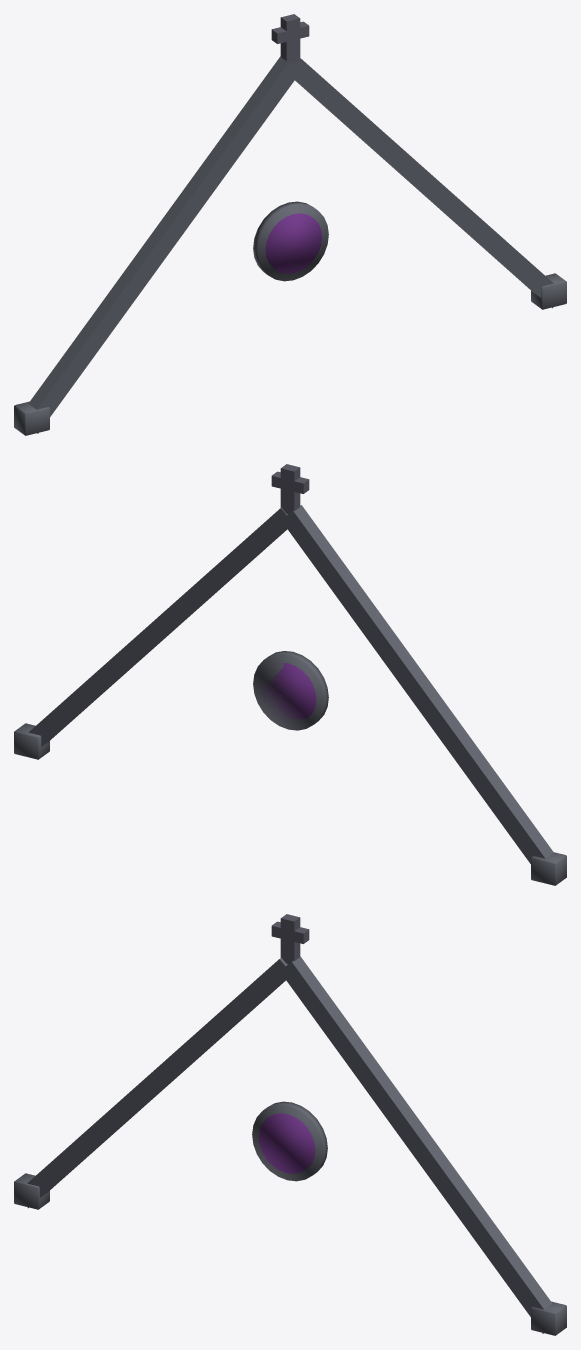
The model's file is kit_church_gable_w6.glb.
3 views of the same model, one above another, from view 1: azimuth 30°, elevation 25°; view 2: azimuth 150°, elevation 25°; view 3: azimuth 330°, elevation 25° (orthographic).
Parts seen in each view (by area): view 1: kit_church_gable_w6; view 2: kit_church_gable_w6; view 3: kit_church_gable_w6.
Boxes of the visible parts, x1=… form: kit_church_gable_w6: x1=14, y1=14, x2=566, y2=435; kit_church_gable_w6: x1=14, y1=464, x2=566, y2=885; kit_church_gable_w6: x1=14, y1=914, x2=566, y2=1335.
Size of the model in its own units: 6.42 by 3.96 by 0.24.
